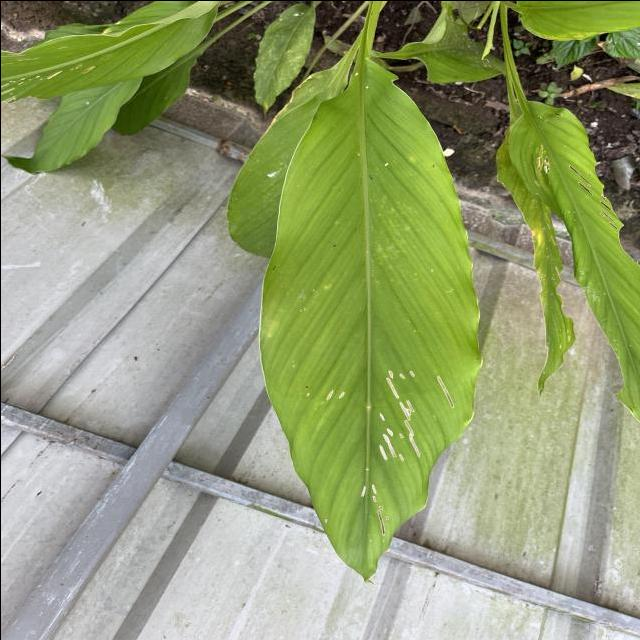Curcuma longa: (252, 56, 486, 588)
